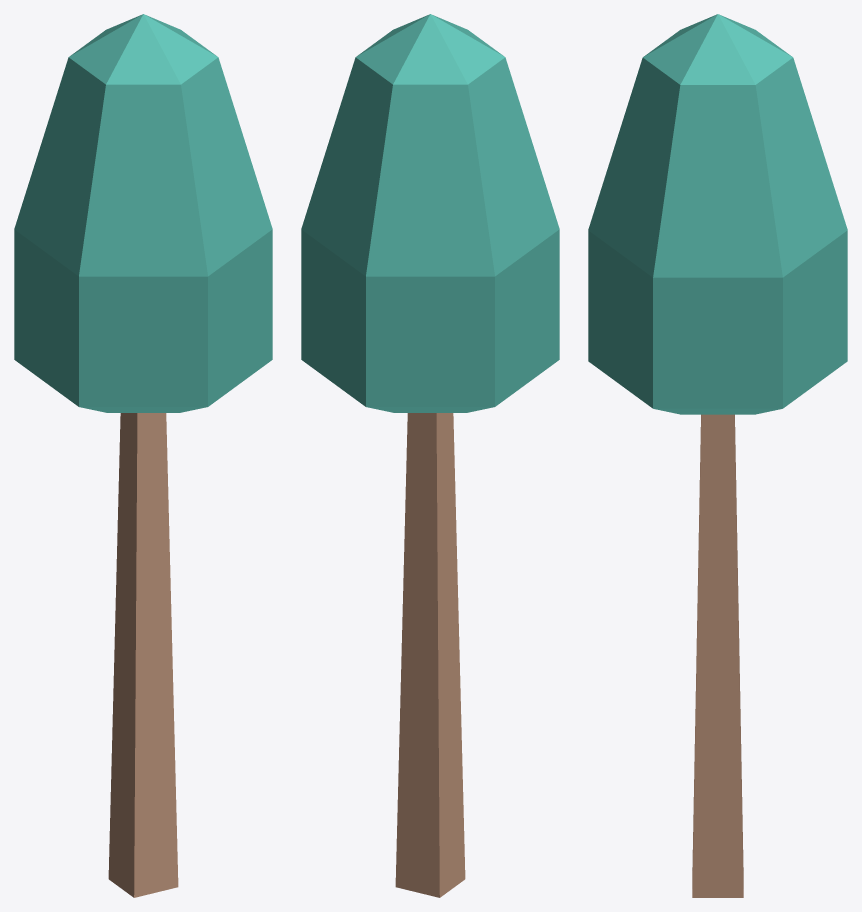
The model's file is tree_simple.glb.
The picture shows the model from 3 angles, left to right: view 1: azimuth 30°, elevation 25°; view 2: azimuth 150°, elevation 25°; view 3: azimuth 270°, elevation 25°; orthographic projection.
Visible parts, largest first — view 1: tree_simple; view 2: tree_simple; view 3: tree_simple.
Part boxes in pixels (x1,y1,x2,y2): tree_simple: (14, 14, 272, 897); tree_simple: (301, 14, 559, 897); tree_simple: (588, 14, 847, 897).
Size of the model in its own units: 0.3546 by 1.52 by 0.4095.
